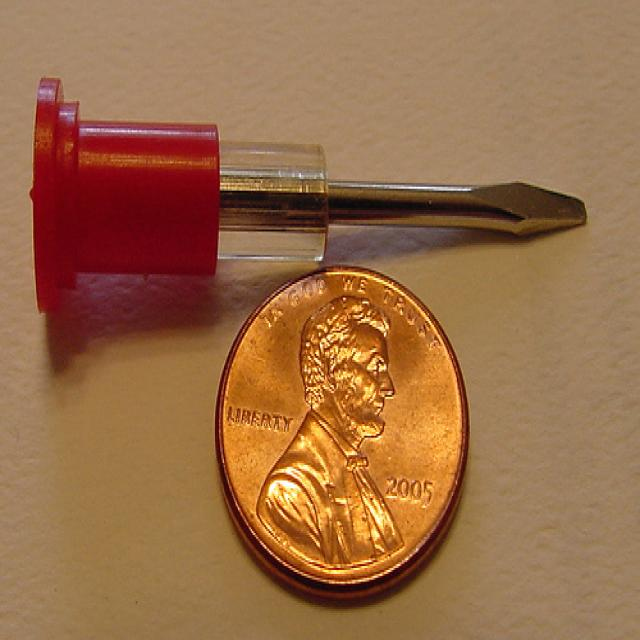screw driver: (26, 23, 632, 302)
